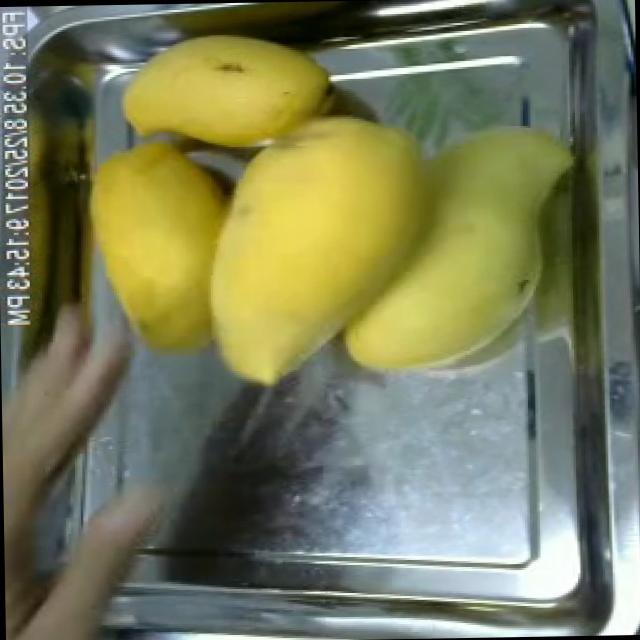fruit: (192, 83, 574, 404), (72, 122, 244, 378), (109, 15, 342, 170)
